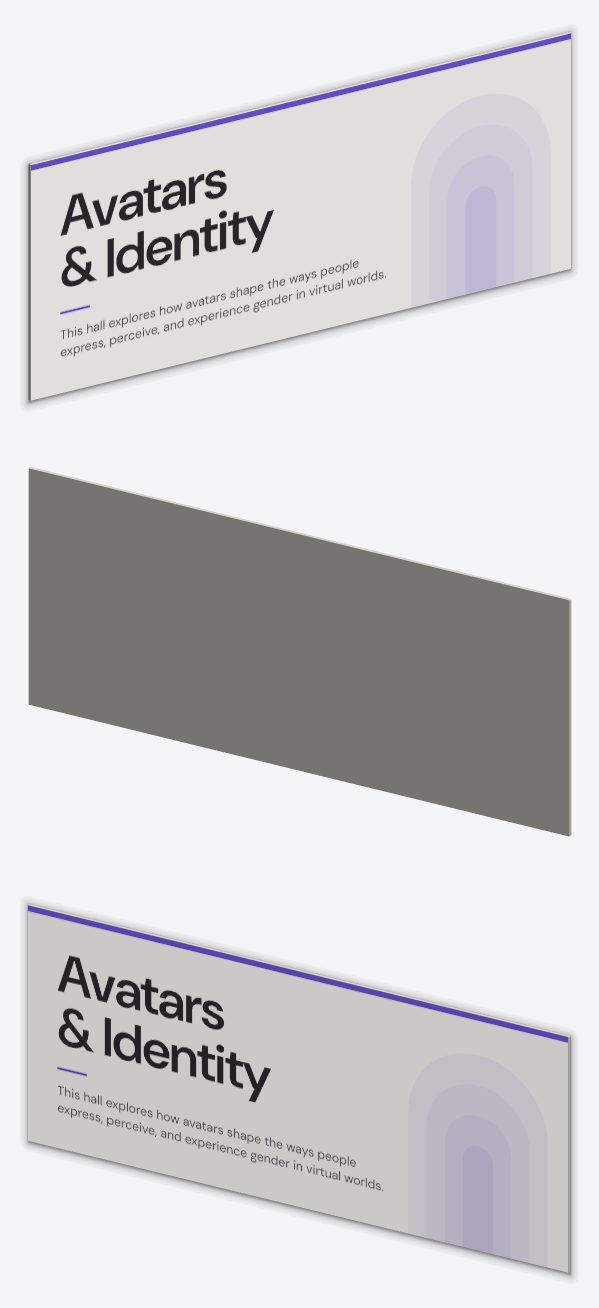
The model's file is hall-avatars.glb.
3 views of the same model, one above another, from view 1: azimuth 30°, elevation 25°; view 2: azimuth 150°, elevation 25°; view 3: azimuth 330°, elevation 25° (orthographic).
Visible parts, largest first — view 1: hall-avatars; view 2: hall-avatars; view 3: hall-avatars.
Part boxes in pixels (box(x1,y1,x2,y2)): hall-avatars: box(26, 30, 572, 405); hall-avatars: box(28, 467, 571, 836); hall-avatars: box(26, 902, 572, 1277).
Bounding box in the file's own units: 3.05 × 1.37 × 0.018.
Materials: 3 (2 with a texture image).
